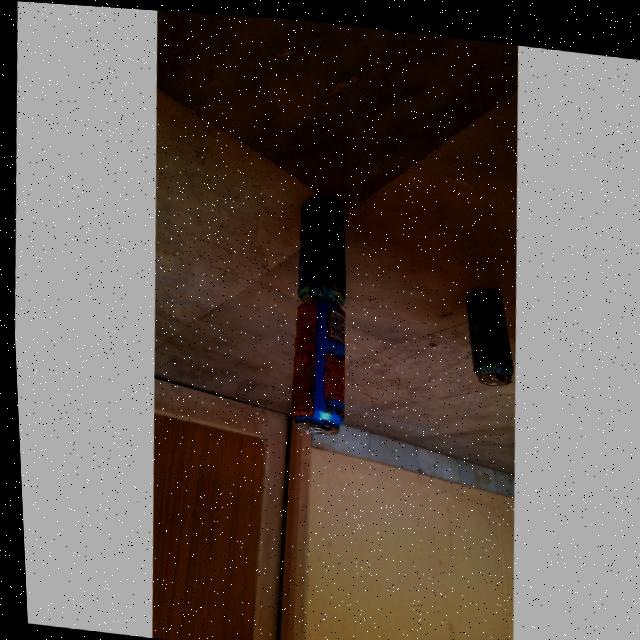Monster Aussie Lemonade: (292, 192, 348, 298), (457, 282, 514, 378)
Monster Mango Loco: (284, 293, 345, 429)
